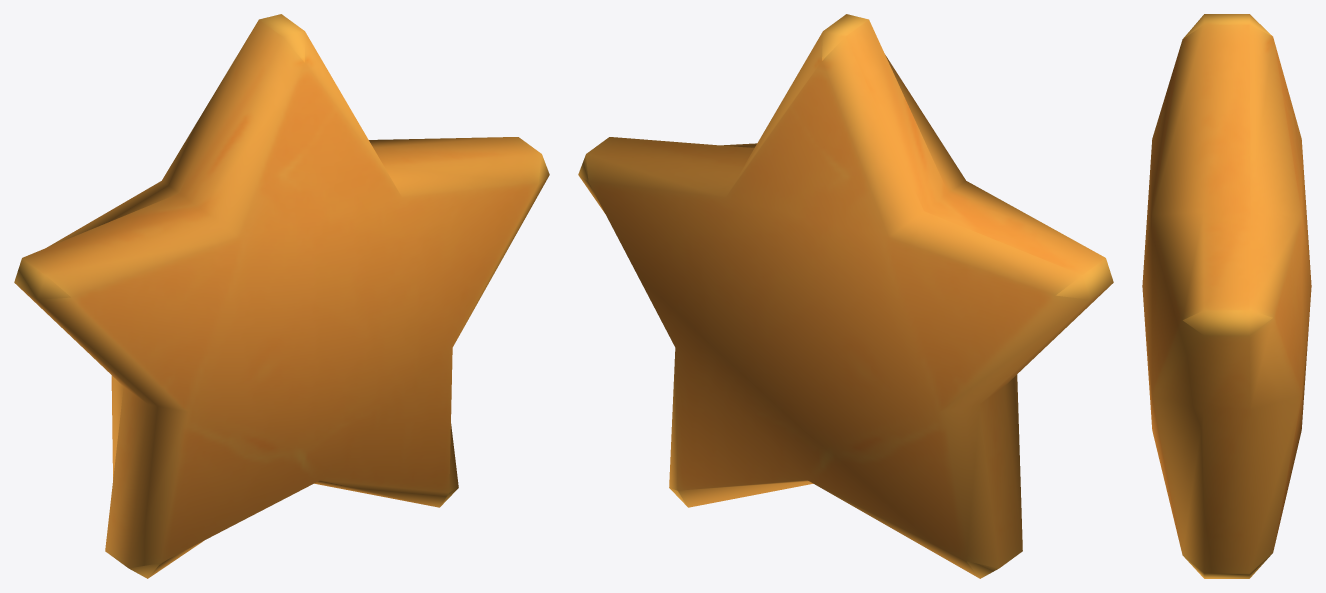
The model's file is Star_01.fbx.
3 views of the same model, side by side, from view 1: azimuth 30°, elevation 25°; view 2: azimuth 150°, elevation 25°; view 3: azimuth 270°, elevation 25° (orthographic). The views are drawn at different scales.
Parts seen in each view (by area): view 1: Star_01; view 2: Star_01; view 3: Star_01.
Part boxes in pixels (box(x1,y1,x2,y2)): Star_01: box(14, 14, 549, 578); Star_01: box(578, 14, 1113, 578); Star_01: box(1142, 14, 1311, 578).
Bounding box in the file's own units: 1.07 × 1.02 × 0.3175.
